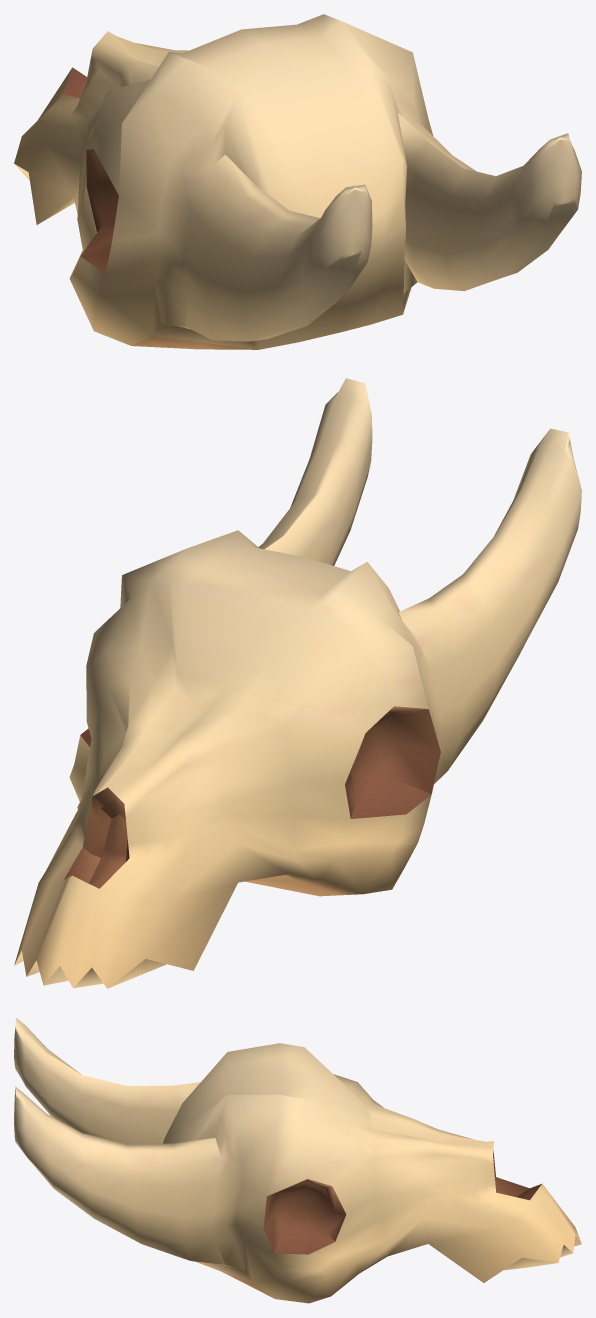
The model's file is SkullGround.fbx.
The picture shows the model from 3 angles, top to bottom: view 1: azimuth 30°, elevation 25°; view 2: azimuth 150°, elevation 25°; view 3: azimuth 270°, elevation 25°; orthographic projection. The views are drawn at different scales.
Parts seen in each view (by area): view 1: pCube7; view 2: pCube7; view 3: pCube7.
Part boxes in pixels (x1,y1,x2,y2): pCube7: (14, 14, 581, 349); pCube7: (14, 378, 581, 988); pCube7: (14, 1018, 581, 1303).
Size of the model in its own units: 5.24 by 4.68 by 11.45.
